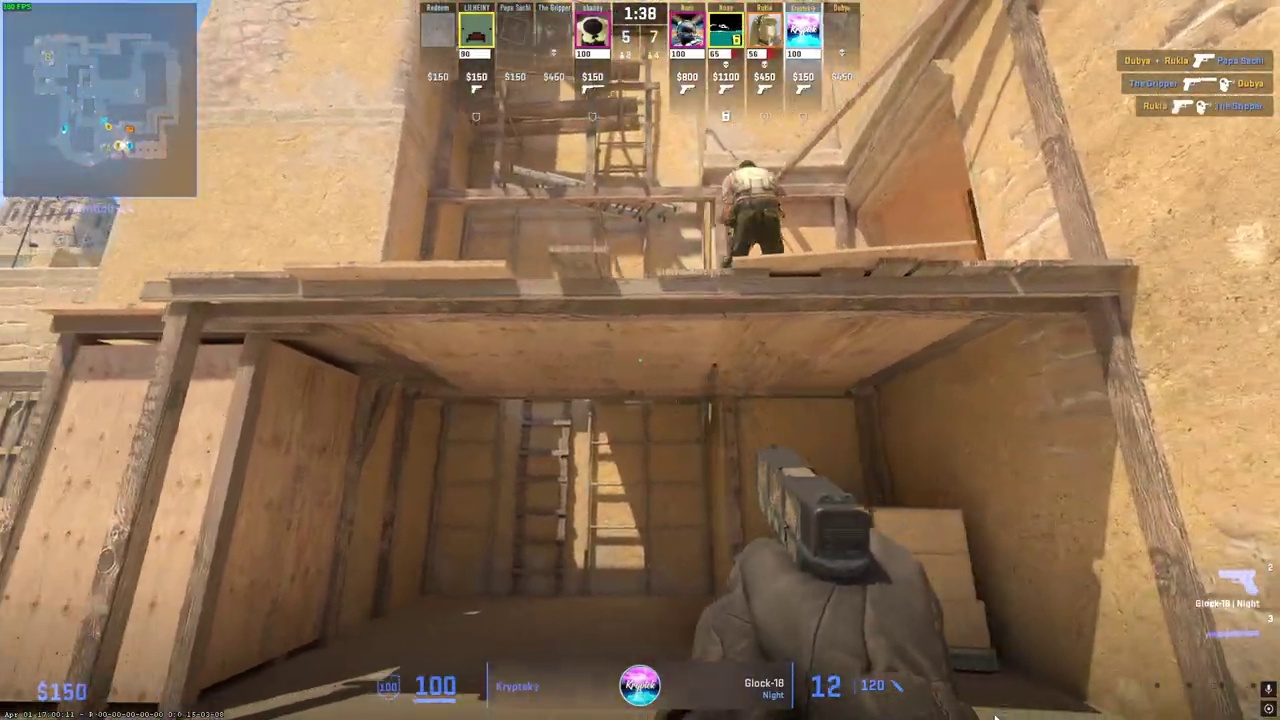Terrorist: (719, 159, 785, 263)
